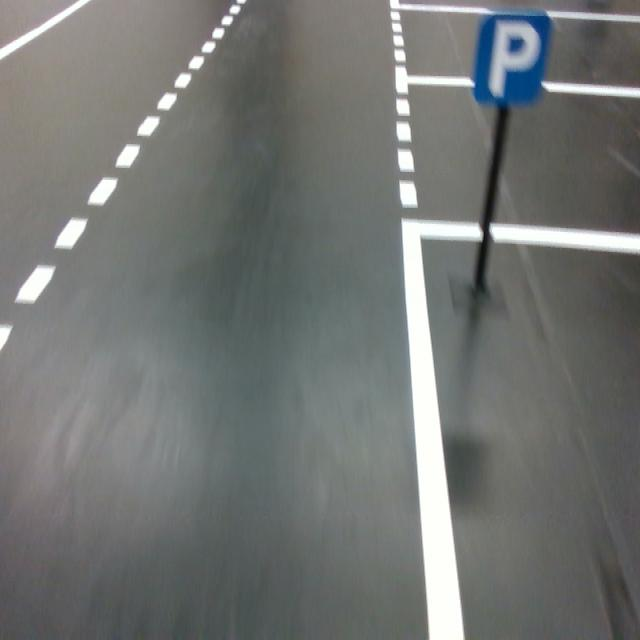parking-sign: (471, 8, 555, 108)
